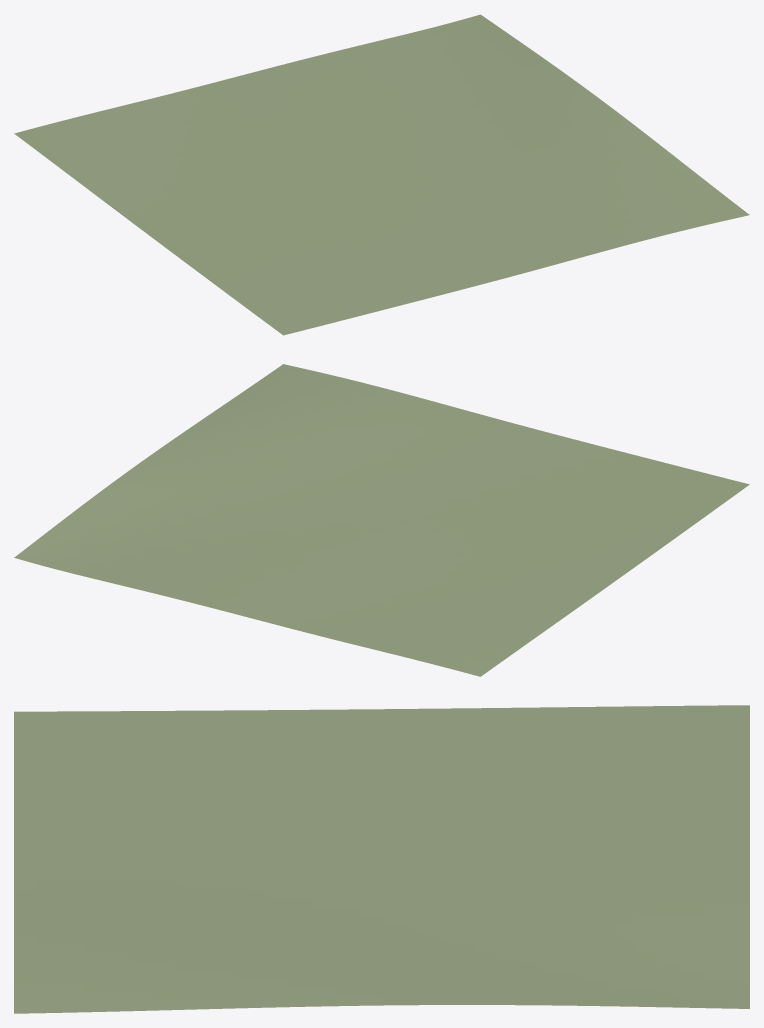
Rendered from desert-1-9.glb.
3 renders of one model, top to bottom at view 1: azimuth 30°, elevation 25°; view 2: azimuth 150°, elevation 25°; view 3: azimuth 270°, elevation 25°, orthographic. The views are drawn at different scales.
Visible parts, largest first — view 1: desert-1-9; view 2: desert-1-9; view 3: desert-1-9.
Boxes of the visible parts, x1=… form: desert-1-9: x1=14, y1=14, x2=749, y2=335; desert-1-9: x1=14, y1=364, x2=749, y2=676; desert-1-9: x1=14, y1=705, x2=749, y2=1013.
Bounding box in the file's own units: 512 × 13.62 × 512.
